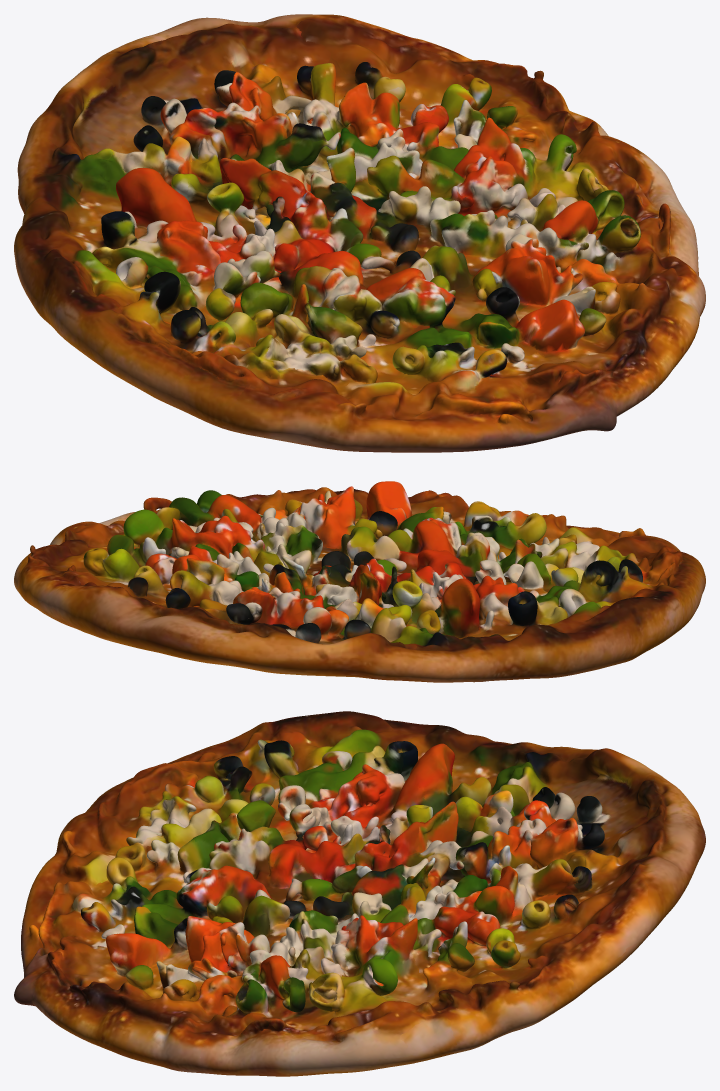
File: Greek_Pizza.glb
3 renders of one model, top to bottom at view 1: azimuth 30°, elevation 25°; view 2: azimuth 150°, elevation 25°; view 3: azimuth 270°, elevation 25°, orthographic. The views are drawn at different scales.
Visible parts, largest first — view 1: tripo_node_ccec6e1f-41bd-40f0-9eda-dcbe2dfb46f1; view 2: tripo_node_ccec6e1f-41bd-40f0-9eda-dcbe2dfb46f1; view 3: tripo_node_ccec6e1f-41bd-40f0-9eda-dcbe2dfb46f1.
Part boxes in pixels (x1,y1,x2,y2): tripo_node_ccec6e1f-41bd-40f0-9eda-dcbe2dfb46f1: (14, 14, 705, 452); tripo_node_ccec6e1f-41bd-40f0-9eda-dcbe2dfb46f1: (14, 481, 705, 682); tripo_node_ccec6e1f-41bd-40f0-9eda-dcbe2dfb46f1: (14, 711, 705, 1076).
Bounding box in the file's own units: 0.9985 × 0.2545 × 1.
1 material, 1 textured.
